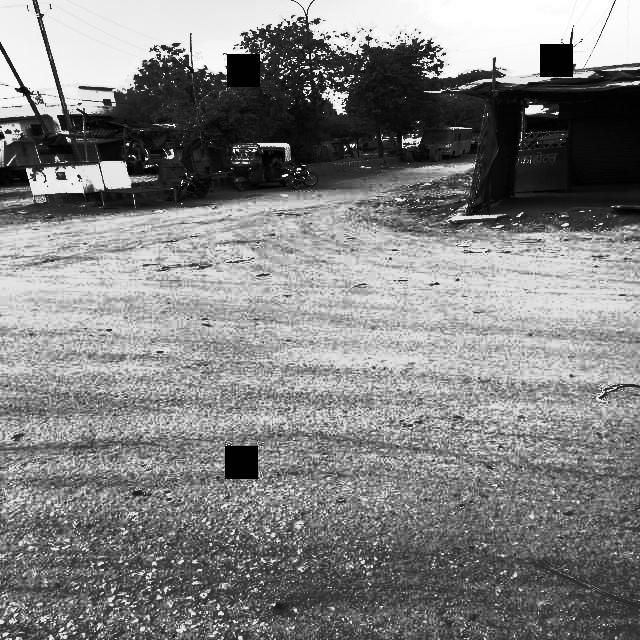Auto-Rickshaw: (224, 135, 312, 189)
